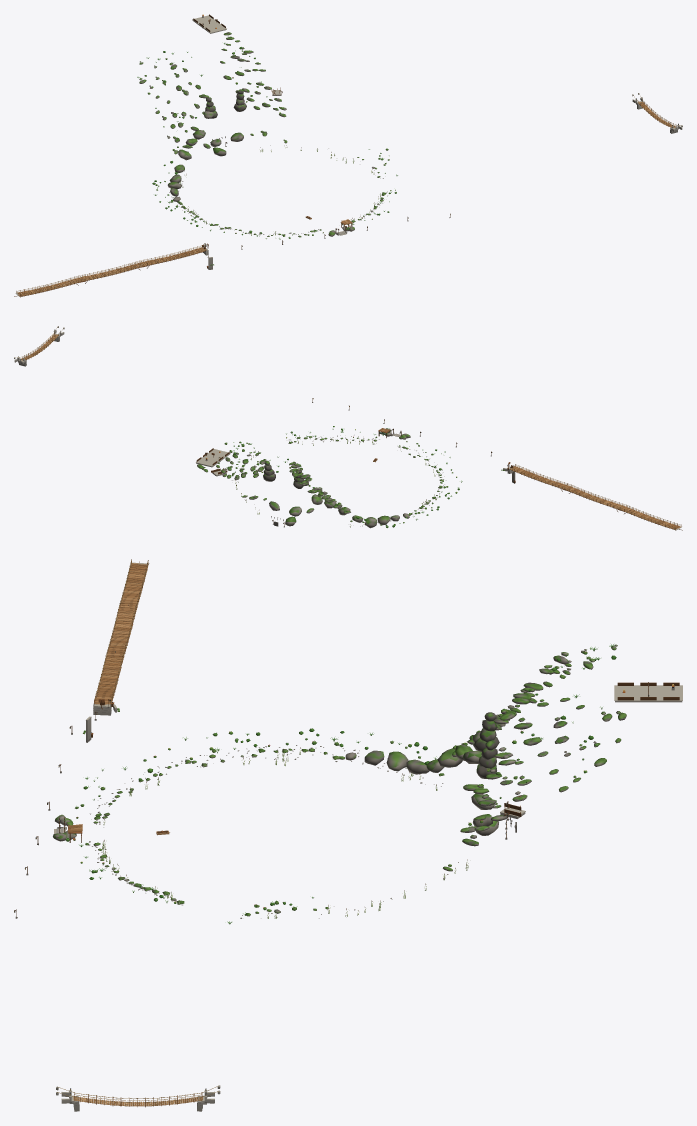
The model's file is falls.glb.
3 renders of one model, top to bottom at view 1: azimuth 30°, elevation 25°; view 2: azimuth 150°, elevation 25°; view 3: azimuth 270°, elevation 25°, orthographic. The views are drawn at different scales.
Visible parts, largest first — view 1: falls_area_LOD0, falls_hb_LOD0; view 2: falls_area_LOD0, falls_hb_LOD0, falls_d3_LOD0; view 3: falls_area_LOD0, falls_hb_LOD0, falls_d3_LOD0.
Boxes of the visible parts, <box> form: falls_area_LOD0: <box>137,14,450,268</box>; falls_hb_LOD0: <box>14,244,213,297</box>; falls_area_LOD0: <box>196,398,515,528</box>; falls_hb_LOD0: <box>501,464,682,530</box>; falls_d3_LOD0: <box>14,326,64,366</box>; falls_area_LOD0: <box>14,644,682,924</box>; falls_hb_LOD0: <box>83,559,149,742</box>; falls_d3_LOD0: <box>56,1085,220,1111</box>.
Size of what is drawn, in the model's own units: 425 by 64.95 by 204.
